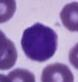D: (20, 22, 58, 62)
